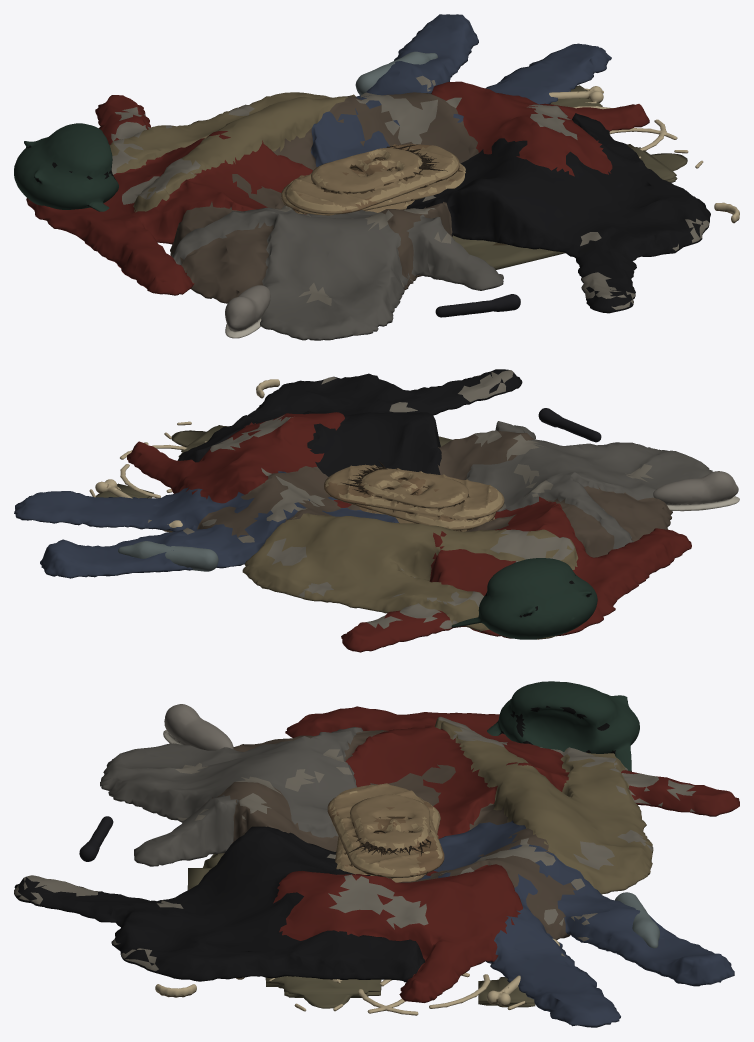
The model's file is skin_lair.glb.
The picture shows the model from 3 angles, top to bottom: view 1: azimuth 30°, elevation 25°; view 2: azimuth 150°, elevation 25°; view 3: azimuth 270°, elevation 25°; orthographic projection. The views are drawn at different scales.
Visible parts, largest first — view 1: kleidung, habe, haeute, blut, knochen; view 2: kleidung, habe, haeute, knochen, blut; view 3: kleidung, habe, haeute, blut, knochen.
Part boxes in pixels (box(x1,y1,x2,y2)): kleidung: box(26, 14, 710, 340); habe: box(14, 51, 520, 338); haeute: box(281, 144, 465, 215); blut: box(452, 85, 687, 269); knochen: box(549, 86, 739, 223); kleidung: box(14, 369, 712, 652); habe: box(118, 408, 739, 639); haeute: box(324, 464, 504, 531); knochen: box(89, 379, 279, 532); blut: box(95, 425, 452, 498); kleidung: box(14, 706, 739, 1027); habe: box(79, 681, 659, 948); haeute: box(327, 783, 444, 882); blut: box(187, 853, 535, 1008); knochen: box(155, 938, 559, 1015).
Bounding box in the file's own units: 1.91 × 0.2115 × 1.9.
